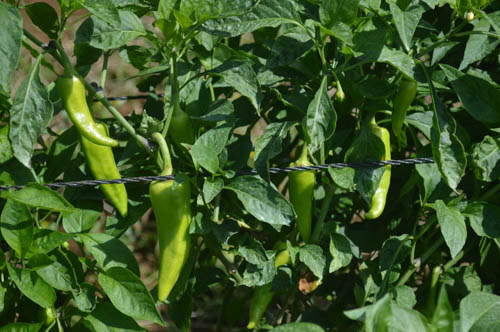ChiliPepper: (150, 178, 192, 306), (78, 122, 128, 212), (243, 251, 289, 332), (64, 80, 117, 149), (359, 127, 392, 226), (282, 162, 315, 241), (389, 76, 415, 136), (167, 115, 196, 156)
